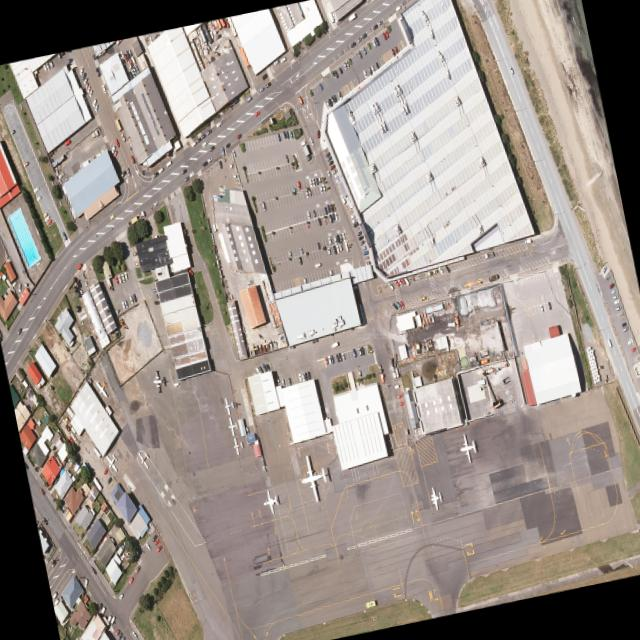large-vehicle: (127, 211, 144, 228), (365, 601, 376, 609), (347, 13, 355, 22), (64, 418, 71, 428), (484, 252, 493, 259), (339, 195, 345, 205), (606, 339, 612, 349), (330, 342, 337, 350), (70, 427, 76, 436), (126, 60, 131, 70), (109, 616, 114, 626), (403, 278, 409, 286), (130, 57, 135, 66), (300, 140, 306, 147), (395, 5, 401, 12), (165, 161, 171, 168), (245, 96, 251, 103), (70, 433, 75, 441), (52, 592, 57, 600), (100, 607, 105, 615), (106, 615, 111, 623), (344, 242, 348, 252), (523, 239, 530, 244), (447, 323, 455, 327), (84, 579, 87, 588), (394, 384, 399, 389)
plane: (294, 452, 330, 505), (456, 433, 478, 465), (260, 489, 279, 516), (103, 448, 121, 476), (93, 375, 110, 401), (150, 369, 166, 394), (428, 486, 443, 512), (136, 447, 151, 471), (226, 416, 239, 437), (231, 436, 243, 456), (222, 397, 234, 416)
small-vehicle: (114, 138, 120, 148), (261, 72, 267, 82), (201, 140, 208, 148), (43, 215, 50, 223), (155, 545, 162, 553), (119, 553, 125, 562), (308, 138, 314, 147), (329, 96, 335, 105), (381, 32, 387, 41), (42, 517, 48, 526), (151, 534, 157, 543), (120, 170, 126, 179), (131, 631, 137, 640), (90, 567, 96, 576), (395, 301, 401, 310), (130, 155, 135, 165), (367, 66, 372, 76), (101, 84, 106, 94), (374, 37, 379, 47), (296, 181, 301, 191), (341, 233, 346, 243), (332, 245, 337, 255), (215, 121, 222, 128), (206, 157, 213, 164), (279, 57, 286, 64), (264, 82, 271, 89), (214, 34, 221, 41), (11, 280, 17, 288), (45, 219, 51, 227), (157, 167, 163, 175), (212, 44, 218, 52), (39, 488, 45, 496), (106, 477, 112, 485), (261, 364, 267, 372), (205, 128, 211, 136), (134, 566, 140, 574), (444, 266, 450, 274), (231, 150, 236, 159), (337, 91, 342, 100), (113, 276, 118, 285), (132, 294, 137, 303), (120, 133, 125, 142), (125, 168, 130, 177), (48, 59, 53, 68), (45, 62, 50, 71), (81, 72, 86, 81), (83, 97, 88, 106), (92, 99, 97, 108), (95, 68, 100, 77), (357, 51, 362, 60), (362, 70, 367, 79), (370, 65, 375, 74), (384, 30, 389, 39), (333, 70, 338, 79), (134, 65, 139, 74), (119, 51, 124, 60), (68, 436, 73, 445), (53, 476, 58, 485), (327, 99, 332, 108), (374, 61, 379, 70), (360, 347, 365, 356), (328, 215, 333, 224), (329, 164, 335, 171), (331, 169, 337, 176), (190, 141, 196, 148), (188, 171, 194, 178), (183, 176, 189, 183), (23, 161, 29, 168), (109, 214, 115, 221), (372, 24, 378, 31), (273, 59, 279, 66), (195, 137, 201, 144), (351, 218, 357, 225), (613, 299, 619, 306), (622, 326, 628, 333), (627, 339, 633, 346), (608, 283, 614, 290), (398, 301, 404, 308), (97, 602, 102, 610), (332, 95, 337, 103), (325, 101, 330, 109), (326, 170, 331, 178), (16, 328, 21, 336), (261, 202, 265, 212), (61, 232, 66, 240), (110, 146, 115, 154), (113, 149, 117, 159), (393, 47, 398, 55), (42, 64, 47, 72), (331, 12, 336, 20), (371, 40, 376, 48), (130, 70, 135, 78), (145, 543, 150, 551), (255, 367, 260, 375), (258, 366, 263, 374), (265, 364, 270, 372), (357, 348, 362, 356), (337, 66, 342, 74), (128, 577, 133, 585), (118, 593, 123, 601), (117, 632, 122, 640), (311, 178, 315, 188), (602, 266, 607, 274), (438, 267, 443, 275), (397, 279, 402, 287), (388, 283, 393, 291), (208, 146, 214, 152), (285, 131, 289, 140), (333, 173, 339, 179), (117, 275, 121, 284), (121, 301, 125, 310), (79, 67, 83, 76), (83, 77, 87, 86), (86, 85, 90, 94), (391, 49, 395, 58), (350, 42, 356, 48), (299, 247, 303, 256), (281, 379, 285, 388), (298, 373, 302, 382), (307, 371, 311, 380), (327, 356, 331, 365), (330, 356, 334, 365), (338, 353, 342, 362), (341, 353, 345, 362), (316, 130, 320, 139), (132, 251, 138, 257), (152, 172, 158, 178), (352, 349, 356, 358), (333, 236, 337, 245), (335, 245, 339, 254), (333, 212, 337, 221), (321, 184, 325, 193), (308, 179, 312, 188), (305, 190, 309, 199), (306, 211, 310, 220), (612, 294, 618, 300), (615, 306, 621, 312), (359, 240, 365, 246), (398, 401, 404, 407), (365, 261, 371, 267), (298, 256, 302, 265), (254, 111, 259, 118), (202, 161, 207, 168), (306, 156, 311, 163), (36, 195, 41, 202), (33, 187, 38, 194), (377, 20, 382, 27), (154, 539, 159, 546), (200, 133, 205, 140), (357, 230, 362, 237), (335, 177, 340, 184), (350, 213, 355, 220), (314, 263, 321, 268), (394, 281, 399, 288), (392, 303, 397, 310), (282, 131, 286, 139), (284, 155, 288, 163), (276, 134, 280, 142), (289, 131, 293, 139), (229, 162, 233, 170), (509, 67, 513, 75), (121, 274, 125, 282), (124, 301, 128, 309), (129, 296, 133, 304), (94, 104, 98, 112), (88, 90, 92, 98), (362, 47, 366, 55), (345, 61, 349, 69), (343, 63, 347, 71), (318, 83, 322, 91), (124, 54, 128, 62), (132, 67, 136, 75), (288, 251, 292, 259), (292, 188, 296, 196), (245, 427, 249, 435), (287, 378, 291, 386), (301, 374, 305, 382), (335, 355, 339, 363), (328, 204, 332, 212), (330, 213, 334, 221), (115, 629, 119, 637), (336, 235, 340, 243), (326, 205, 330, 213), (323, 207, 327, 215), (319, 186, 323, 194), (317, 218, 321, 226), (327, 237, 331, 245), (312, 210, 316, 218), (539, 305, 543, 313), (547, 302, 551, 310), (236, 134, 241, 140), (225, 143, 230, 149), (325, 152, 330, 158), (326, 156, 331, 162), (328, 160, 333, 166), (42, 212, 47, 218), (153, 201, 158, 207), (181, 169, 186, 175), (10, 129, 15, 135), (356, 38, 361, 44), (259, 87, 264, 93), (353, 222, 358, 228), (358, 235, 363, 241), (621, 322, 626, 328), (610, 289, 615, 295), (396, 394, 402, 399), (129, 60, 133, 67), (324, 358, 328, 365), (358, 371, 362, 378), (338, 245, 342, 252), (339, 235, 343, 242), (316, 243, 320, 250), (18, 284, 21, 293), (604, 375, 607, 384), (67, 59, 72, 64), (363, 251, 368, 256), (362, 246, 367, 251), (221, 148, 224, 156), (124, 273, 127, 281), (103, 469, 107, 475), (304, 373, 307, 381), (153, 302, 159, 306), (218, 161, 221, 169), (215, 51, 219, 57), (318, 177, 321, 185), (631, 347, 635, 353), (401, 279, 405, 285), (315, 178, 318, 185), (327, 248, 330, 255), (134, 262, 139, 266), (120, 636, 125, 640), (308, 191, 311, 197), (233, 175, 237, 179), (152, 289, 156, 293), (157, 272, 161, 276), (598, 366, 603, 369)
